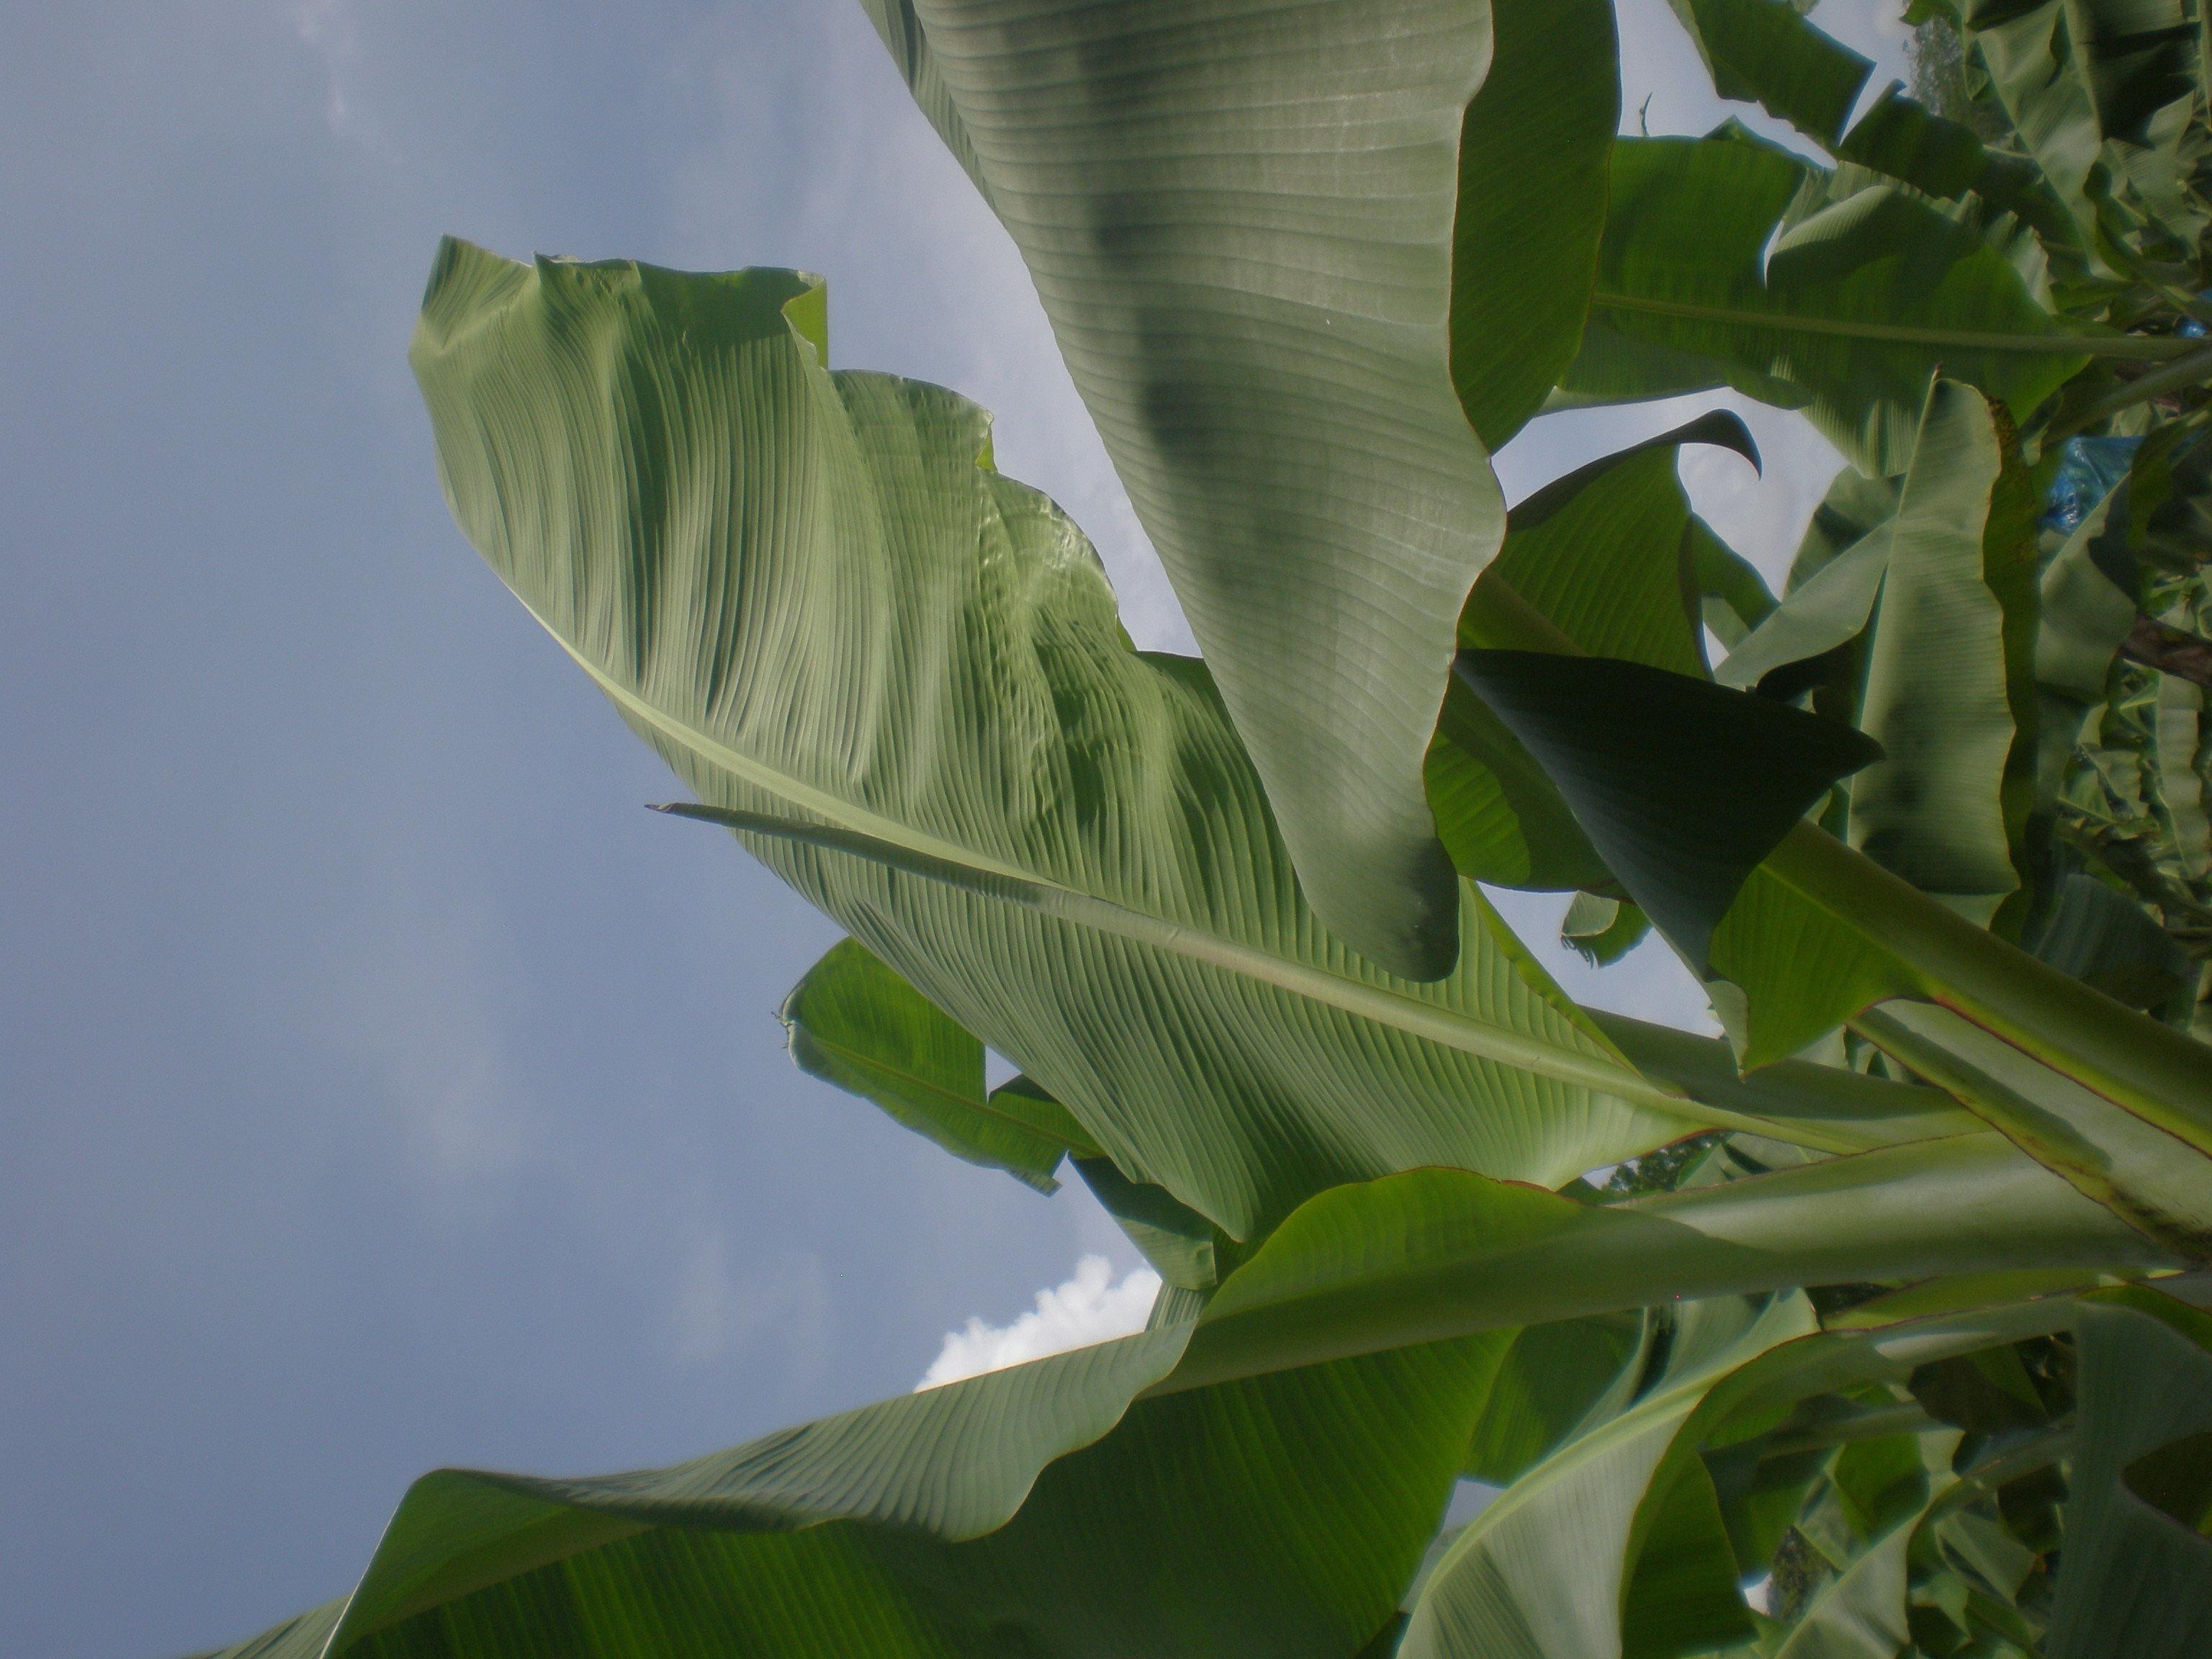candleleafs: (632, 796, 1843, 1168)
